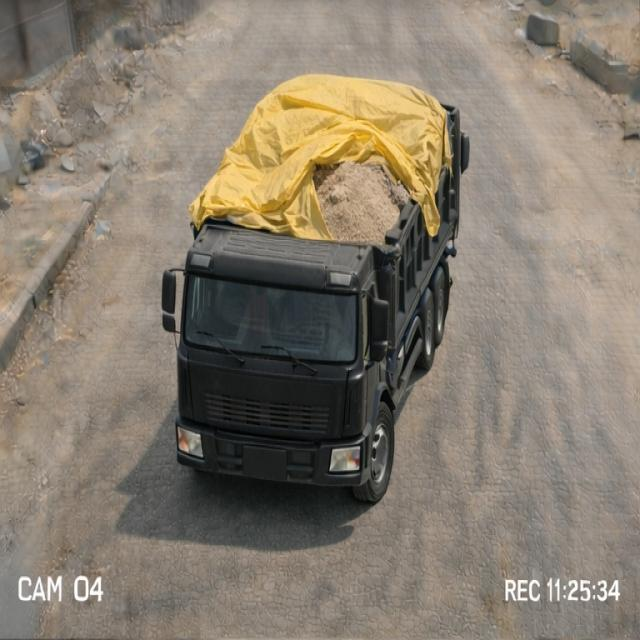Box: (190, 71, 474, 249)
Truck: (158, 64, 486, 490)
